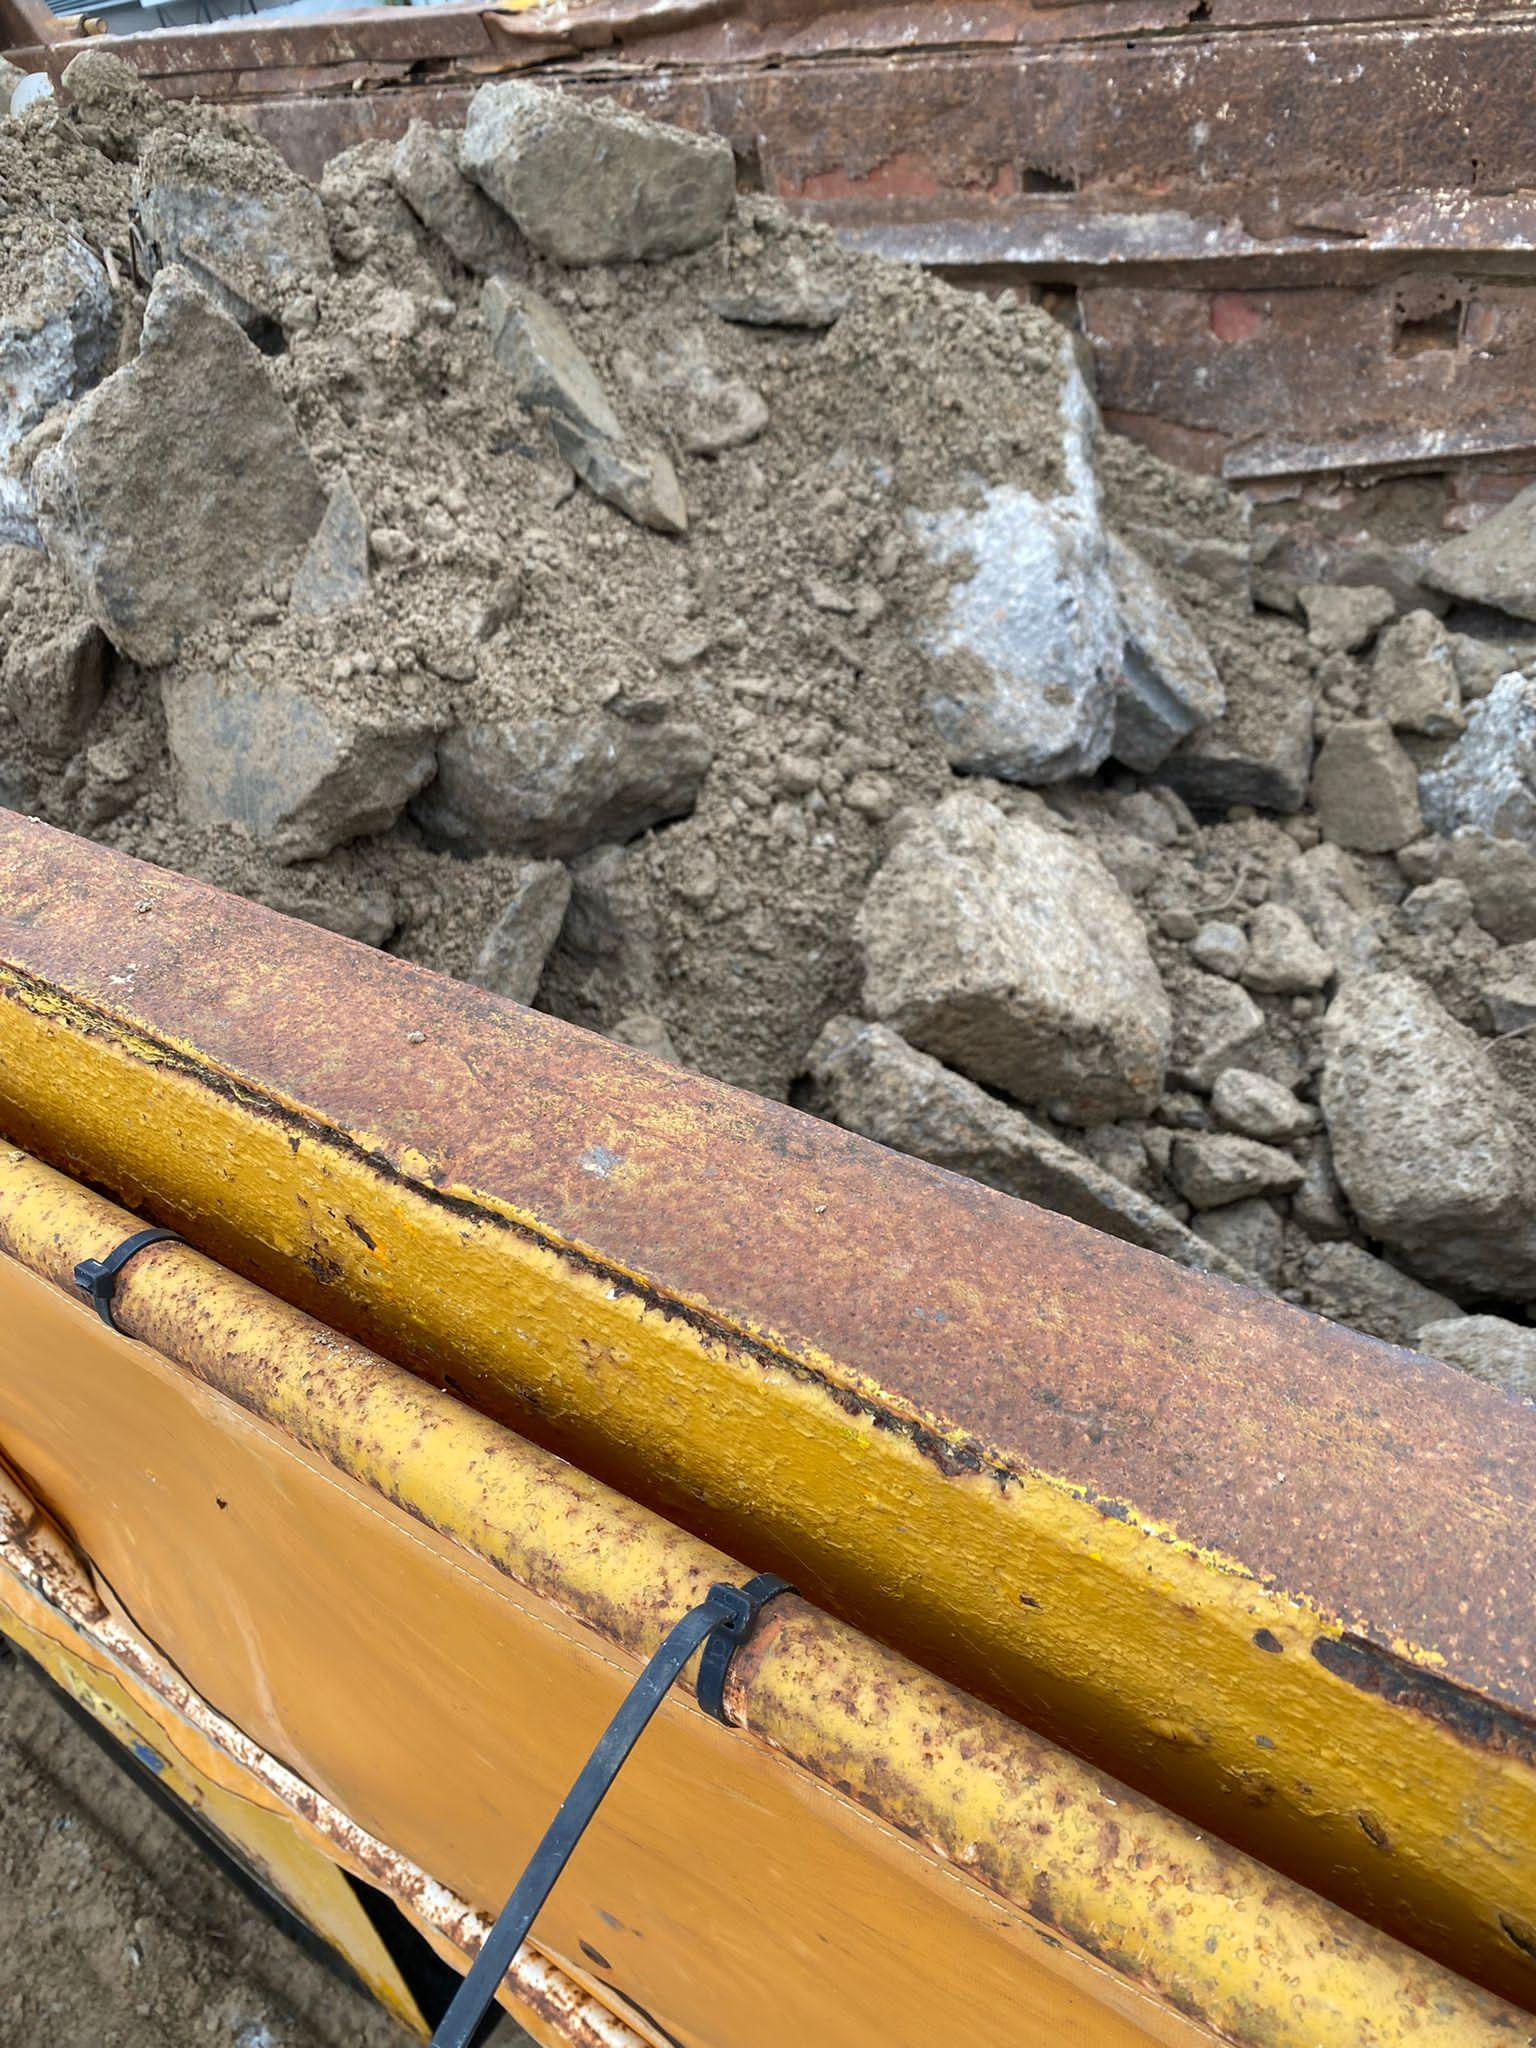dry: (16, 56, 1523, 1380)
